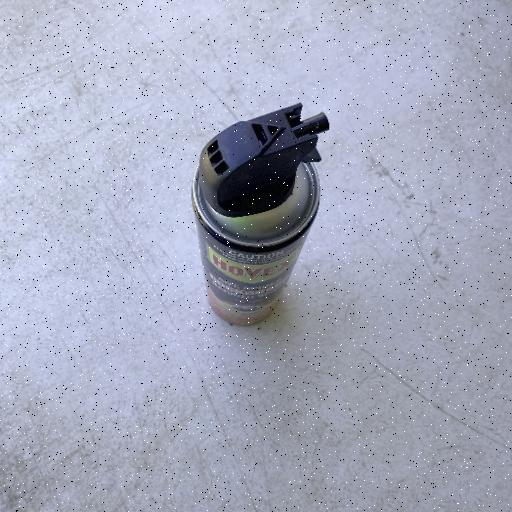Metal: (188, 101, 330, 327)
